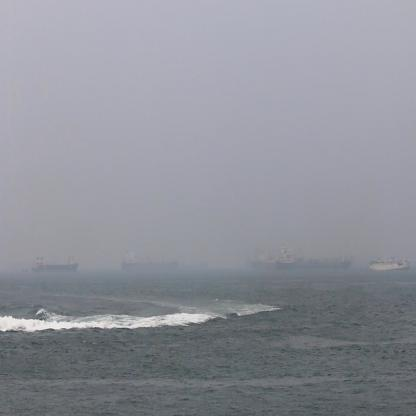Container Ship: (278, 243, 353, 274), (121, 250, 180, 274), (34, 256, 79, 274), (370, 255, 413, 272), (246, 248, 266, 271), (268, 252, 277, 271)
